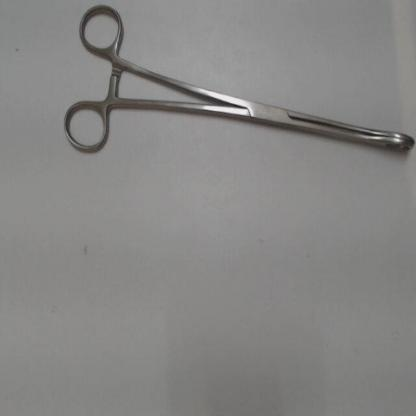Sponge Forceps: (58, 3, 416, 166)
